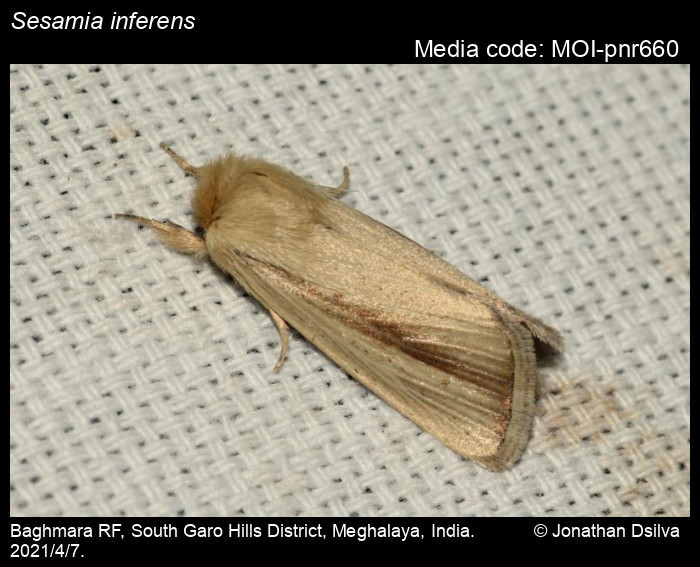Noctuidae: (104, 140, 564, 474)
